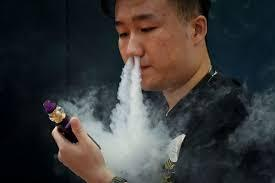smoker: (26, 4, 224, 142)
